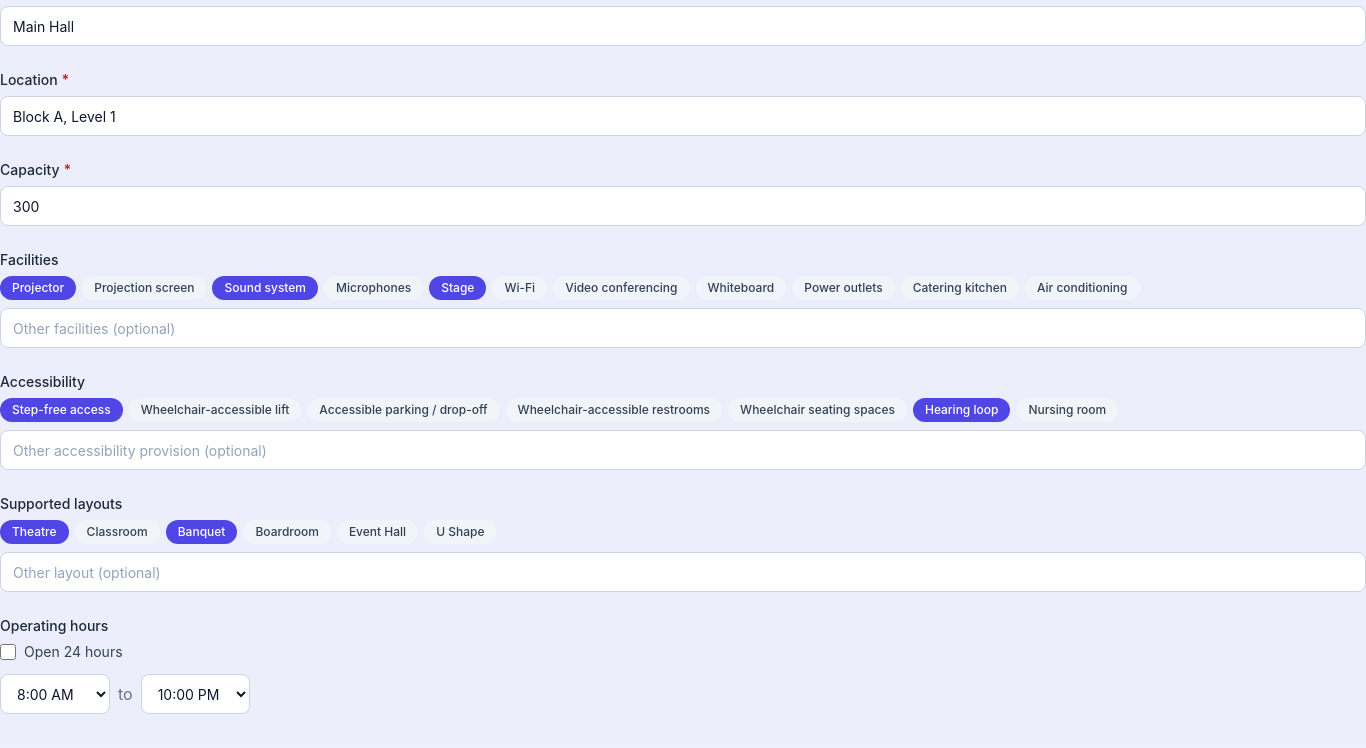
Test: US-14: editing a venue › AC-1: opens with the current details and saves an edit to that venue
The width and height of the screenshot is (1366, 748).
Check: the field labelled "Venue name*" holds "Main Hall", box [0,6,1365,46]
Check: the dropdown labelled "Operating hours" shows "8:00 AM", box [0,674,110,714]
Replace the text in the number field labelled "Capacity*" with "250". click: point(683, 206)
box: [0,186,1365,226]
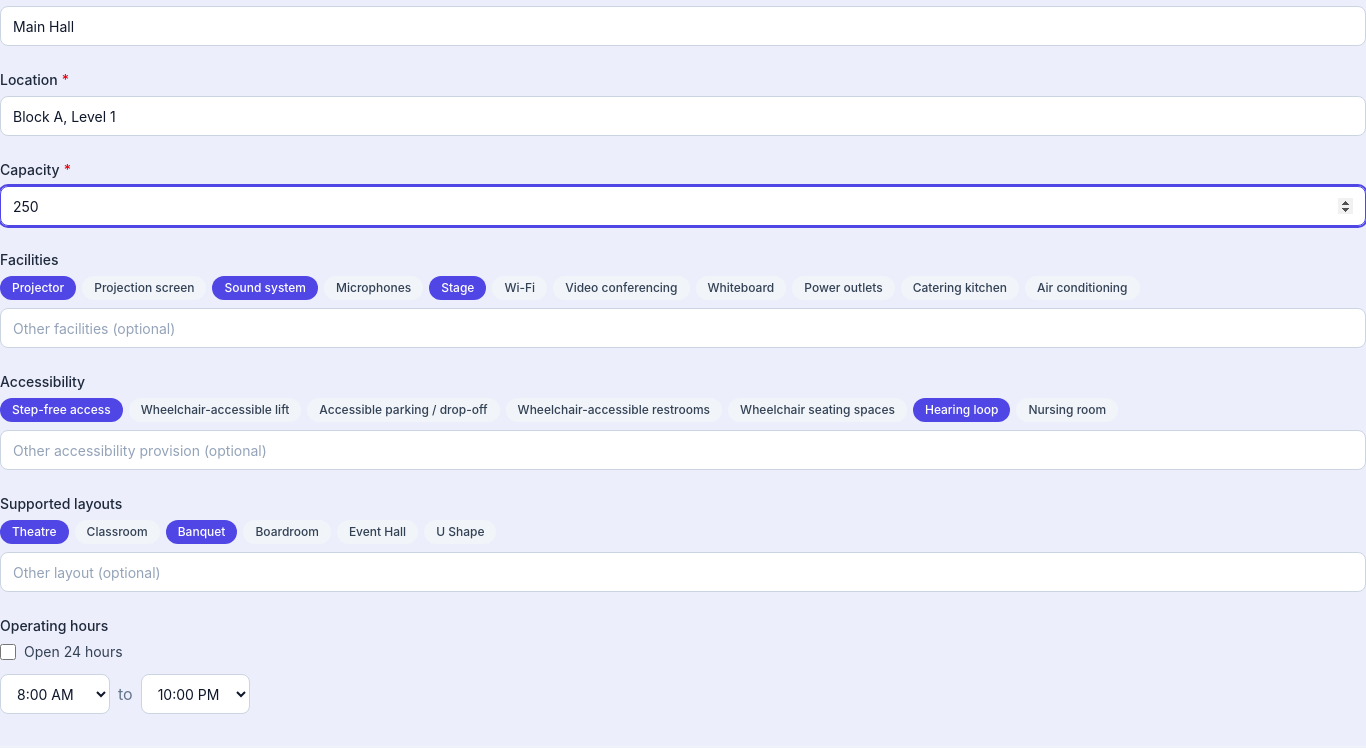
Click the button "Hearing loop". click: point(962, 410)
box: [913,398,1010,422]
(page scrolled)
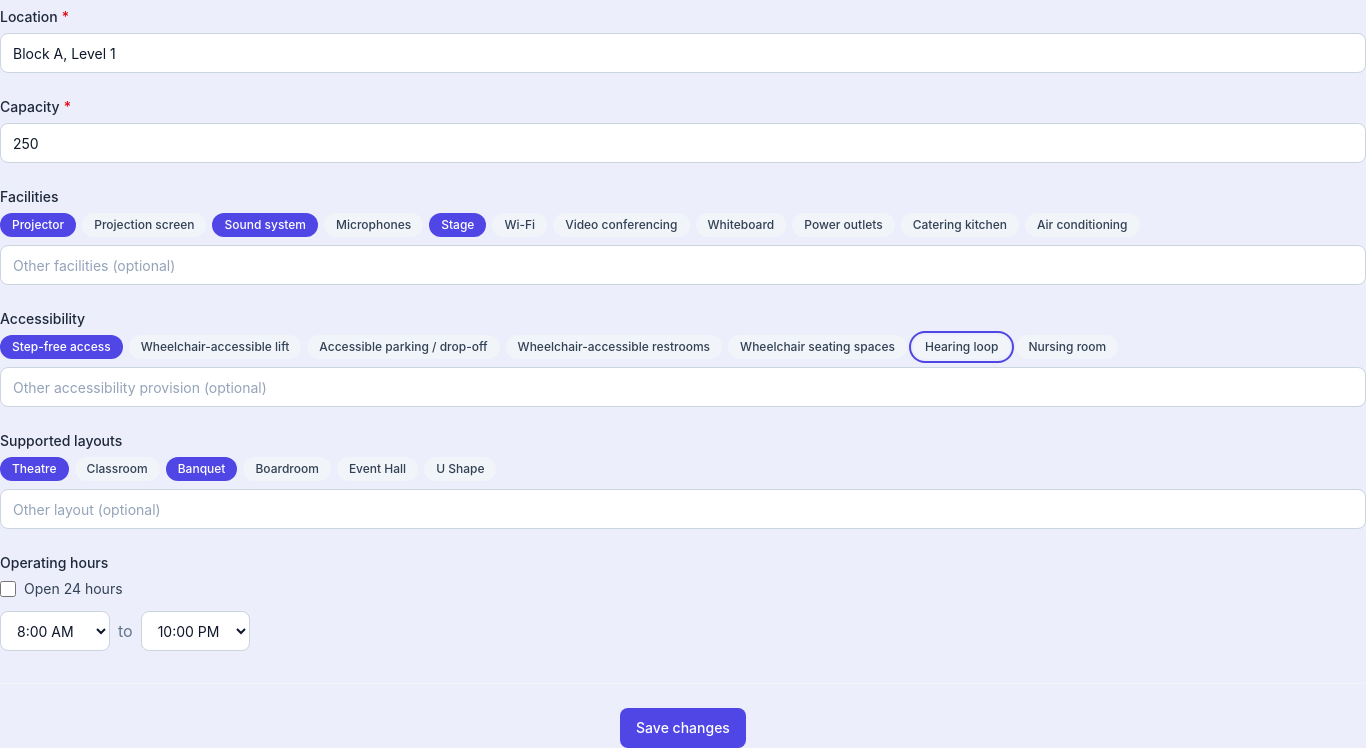
Click the button "Save changes". click: point(683, 728)
box: [620,708,746,747]
(page scrolled)
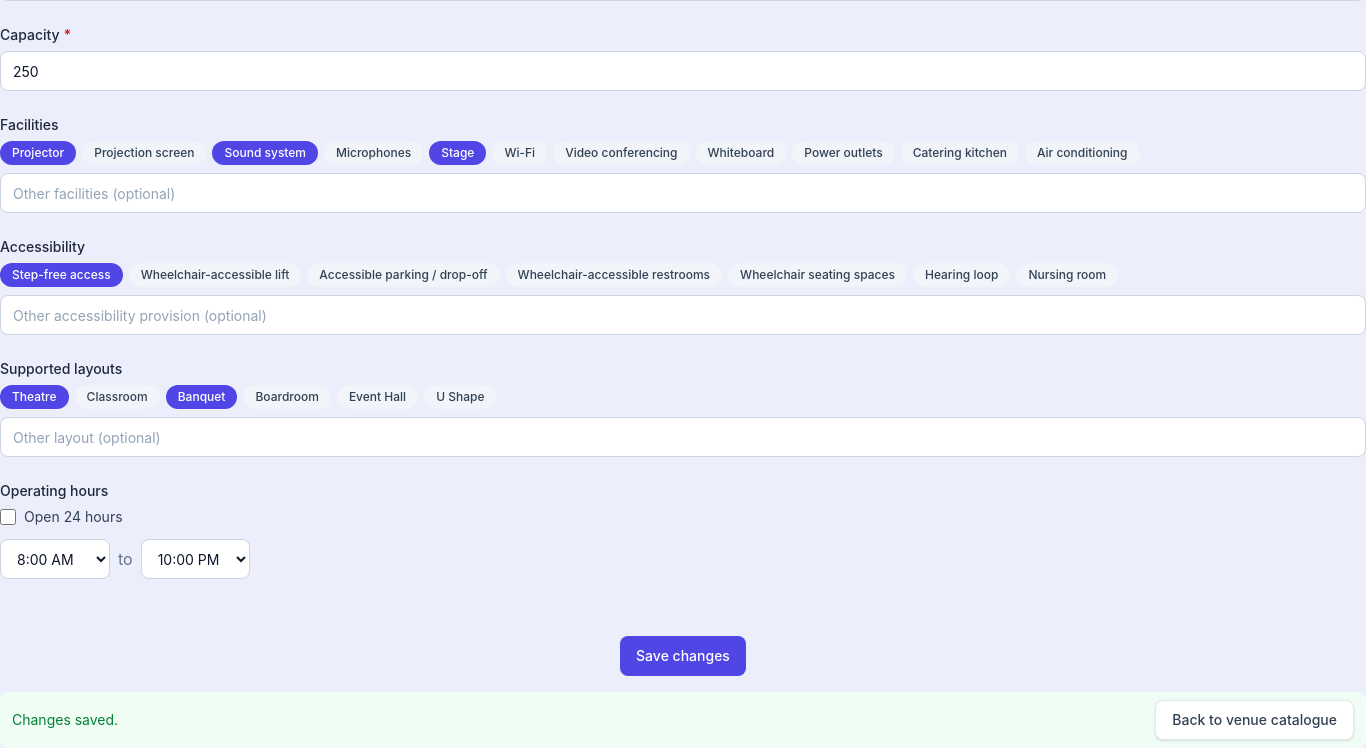
Check: the message reads "Changes saved.", box [12,711,118,728]
